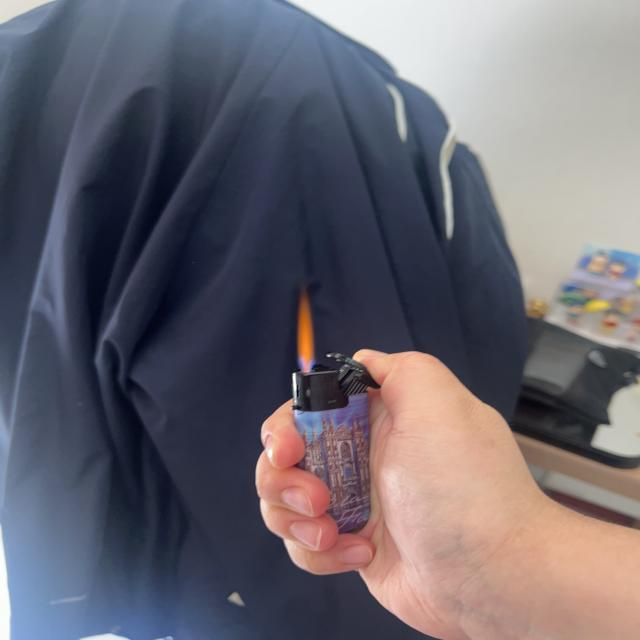fire: (295, 295, 317, 368)
